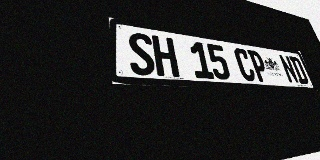1: (188, 41, 215, 79)
5: (206, 43, 232, 80)
C: (233, 47, 257, 81)
D: (289, 56, 310, 84)
H: (151, 35, 180, 77)
N: (278, 54, 300, 84)
P: (247, 50, 270, 82)
S: (127, 31, 156, 76)
